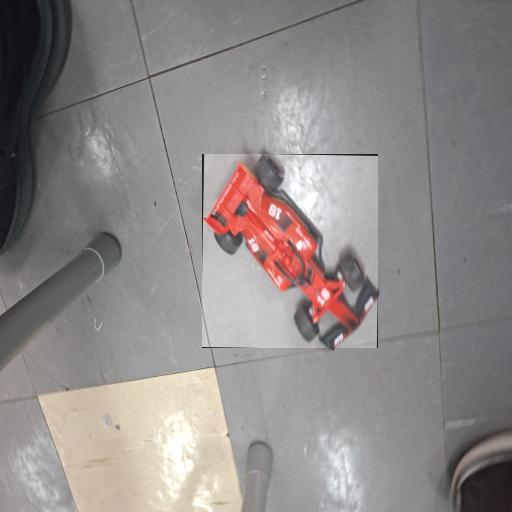carro: (204, 155, 378, 348)
